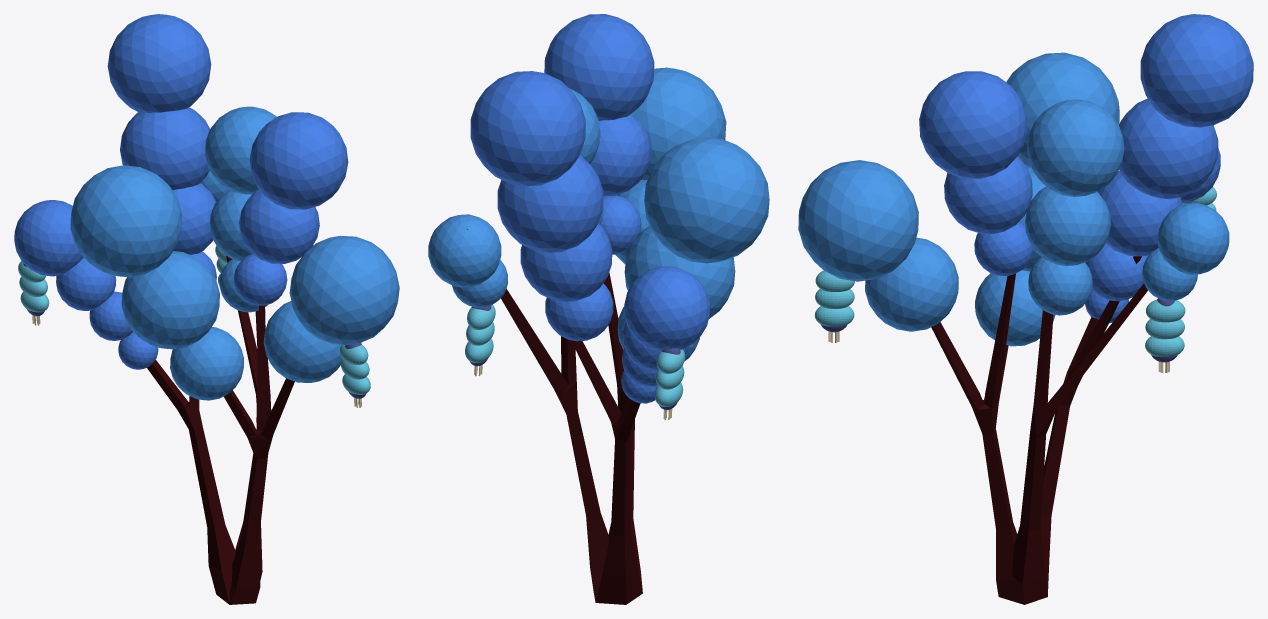
File: Blue_Tree.fbx
The picture shows the model from 3 angles, left to right: view 1: azimuth 30°, elevation 25°; view 2: azimuth 150°, elevation 25°; view 3: azimuth 270°, elevation 25°; orthographic projection. The views are drawn at different scales.
Visible parts, largest first — view 1: Cube.003, Icosphere.036, Icosphere.034, Icosphere.020, Icosphere.026, Icosphere.022, Icosphere.018, Icosphere.023, Icosphere.037, Icosphere.035, Icosphere.031, Icosphere.024 (+9 smaller); view 2: Cube.003, Icosphere.036, Icosphere.020, Icosphere.026, Icosphere.018, Icosphere.031, Icosphere.034, Icosphere.017, Icosphere.032, Icosphere.023, Icosphere.022, Icosphere.021 (+9 smaller); view 3: Cube.003, Icosphere.034, Icosphere.020, Icosphere.026, Icosphere.024, Icosphere.018, Icosphere.035, Icosphere.025, Icosphere.036, Icosphere.023, Icosphere.032, Icosphere.017 (+7 smaller).
Boxes of the visible parts, x1=… form: Cube.003: x1=130, y1=194, x2=294, y2=604; Icosphere.036: x1=70, y1=165, x2=181, y2=277; Icosphere.034: x1=289, y1=235, x2=399, y2=344; Icosphere.020: x1=107, y1=14, x2=211, y2=112; Icosphere.026: x1=249, y1=112, x2=348, y2=209; Icosphere.022: x1=121, y1=251, x2=219, y2=349; Icosphere.018: x1=120, y1=107, x2=210, y2=189; Icosphere.023: x1=239, y1=189, x2=319, y2=263; Icosphere.037: x1=170, y1=327, x2=243, y2=400; Icosphere.035: x1=263, y1=301, x2=342, y2=382; Icosphere.031: x1=14, y1=200, x2=83, y2=276; Icosphere.024: x1=205, y1=106, x2=276, y2=194; Cube.003: x1=467, y1=229, x2=642, y2=604; Icosphere.036: x1=644, y1=137, x2=769, y2=263; Icosphere.020: x1=470, y1=71, x2=585, y2=186; Icosphere.026: x1=544, y1=14, x2=654, y2=120; Icosphere.018: x1=497, y1=155, x2=603, y2=252; Icosphere.031: x1=624, y1=266, x2=709, y2=351; Icosphere.034: x1=631, y1=67, x2=726, y2=179; Icosphere.017: x1=520, y1=223, x2=612, y2=301; Icosphere.032: x1=428, y1=214, x2=501, y2=287; Icosphere.023: x1=590, y1=114, x2=650, y2=196; Icosphere.022: x1=624, y1=226, x2=735, y2=318; Icosphere.021: x1=545, y1=283, x2=613, y2=341; Cube.003: x1=931, y1=205, x2=1207, y2=604; Icosphere.034: x1=798, y1=160, x2=918, y2=281; Icosphere.020: x1=1140, y1=14, x2=1253, y2=127; Icosphere.026: x1=919, y1=71, x2=1027, y2=178; Icosphere.024: x1=1027, y1=99, x2=1124, y2=196; Icosphere.018: x1=1119, y1=98, x2=1218, y2=199; Icosphere.035: x1=865, y1=237, x2=958, y2=331; Icosphere.025: x1=1025, y1=186, x2=1110, y2=266; Icosphere.036: x1=1006, y1=52, x2=1119, y2=167; Icosphere.023: x1=944, y1=156, x2=1032, y2=233; Icosphere.032: x1=1157, y1=203, x2=1229, y2=274; Icosphere.017: x1=1097, y1=171, x2=1182, y2=256.
Size of the model in its own units: 461 by 977 by 701.
